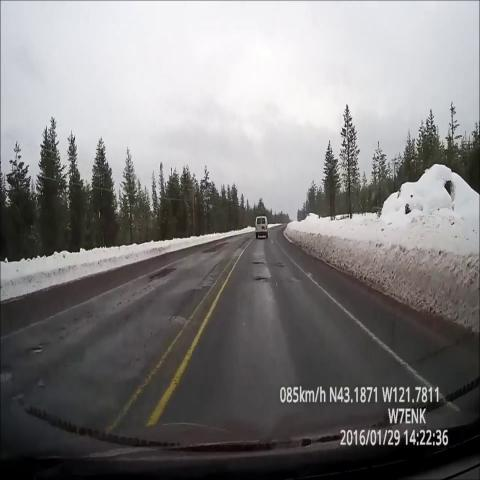pothole: (148, 256, 181, 294), (204, 236, 232, 262), (250, 266, 277, 292), (248, 252, 270, 271)
